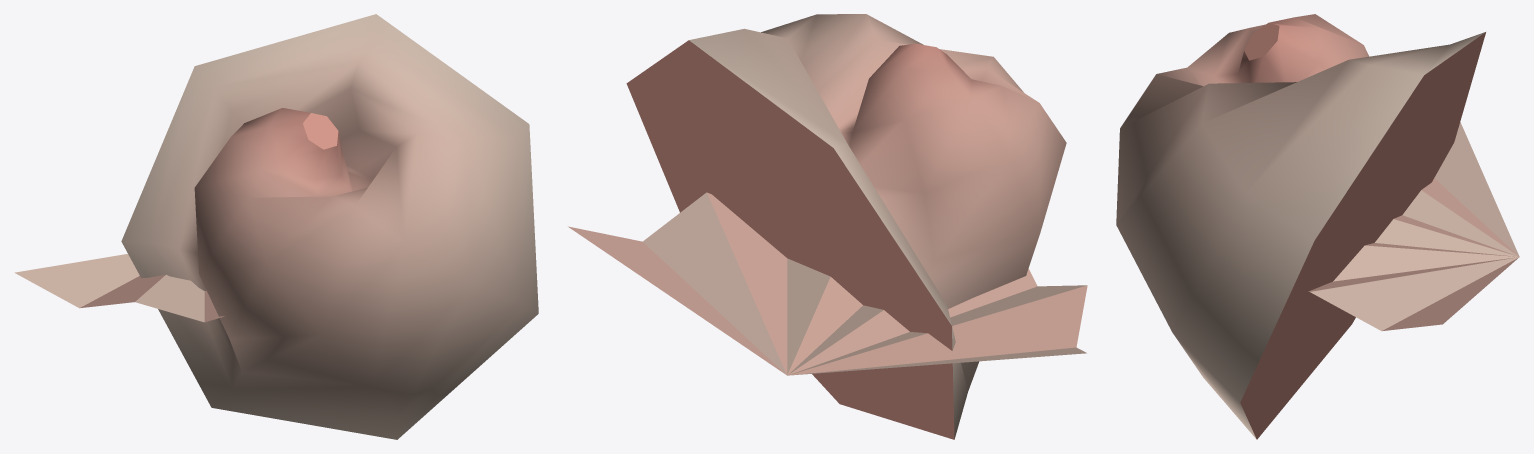
File: shells.glb
The picture shows the model from 3 angles, left to right: view 1: azimuth 30°, elevation 25°; view 2: azimuth 150°, elevation 25°; view 3: azimuth 270°, elevation 25°; orthographic projection. The views are drawn at different scales.
Visible parts, largest first — view 1: shell_0, shell_1; view 2: shell_0, shell_1; view 3: shell_0, shell_1.
Part boxes in pixels (x1,y1,x2,y2): shell_0: (121,14,538,439); shell_1: (14,254,224,322); shell_0: (626,14,1066,439); shell_1: (568,192,1087,375); shell_0: (1116,14,1485,439); shell_1: (1308,122,1519,331).
Size of the model in its own units: 0.2942 by 0.2196 by 0.2037.
